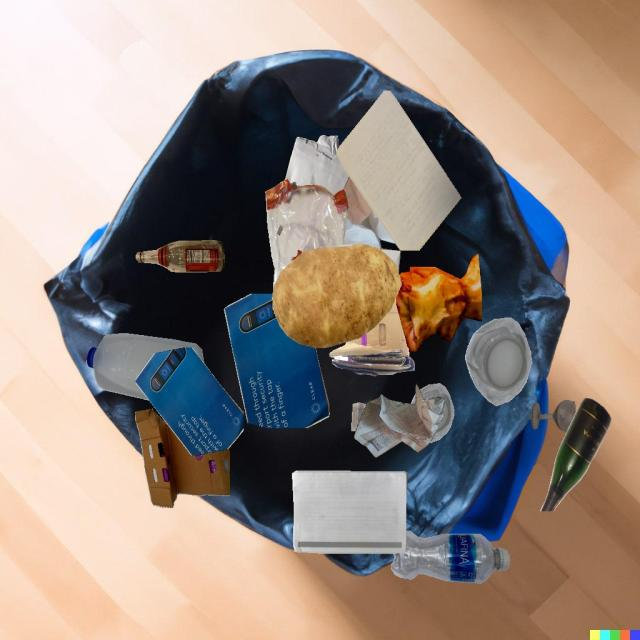biowaste: (272, 243, 402, 348), (396, 254, 482, 352)
cardboard: (135, 408, 230, 508), (329, 296, 415, 376)
glass: (540, 398, 611, 511), (136, 240, 225, 273), (531, 400, 575, 432)
paper: (336, 91, 461, 250), (224, 294, 329, 428), (136, 348, 244, 456), (292, 471, 408, 553), (354, 384, 445, 458), (273, 250, 381, 311), (343, 176, 396, 249), (284, 135, 349, 194), (351, 403, 367, 431)
plastic: (265, 179, 348, 276), (86, 333, 204, 400), (391, 531, 510, 584), (465, 317, 532, 406), (420, 383, 454, 443)
